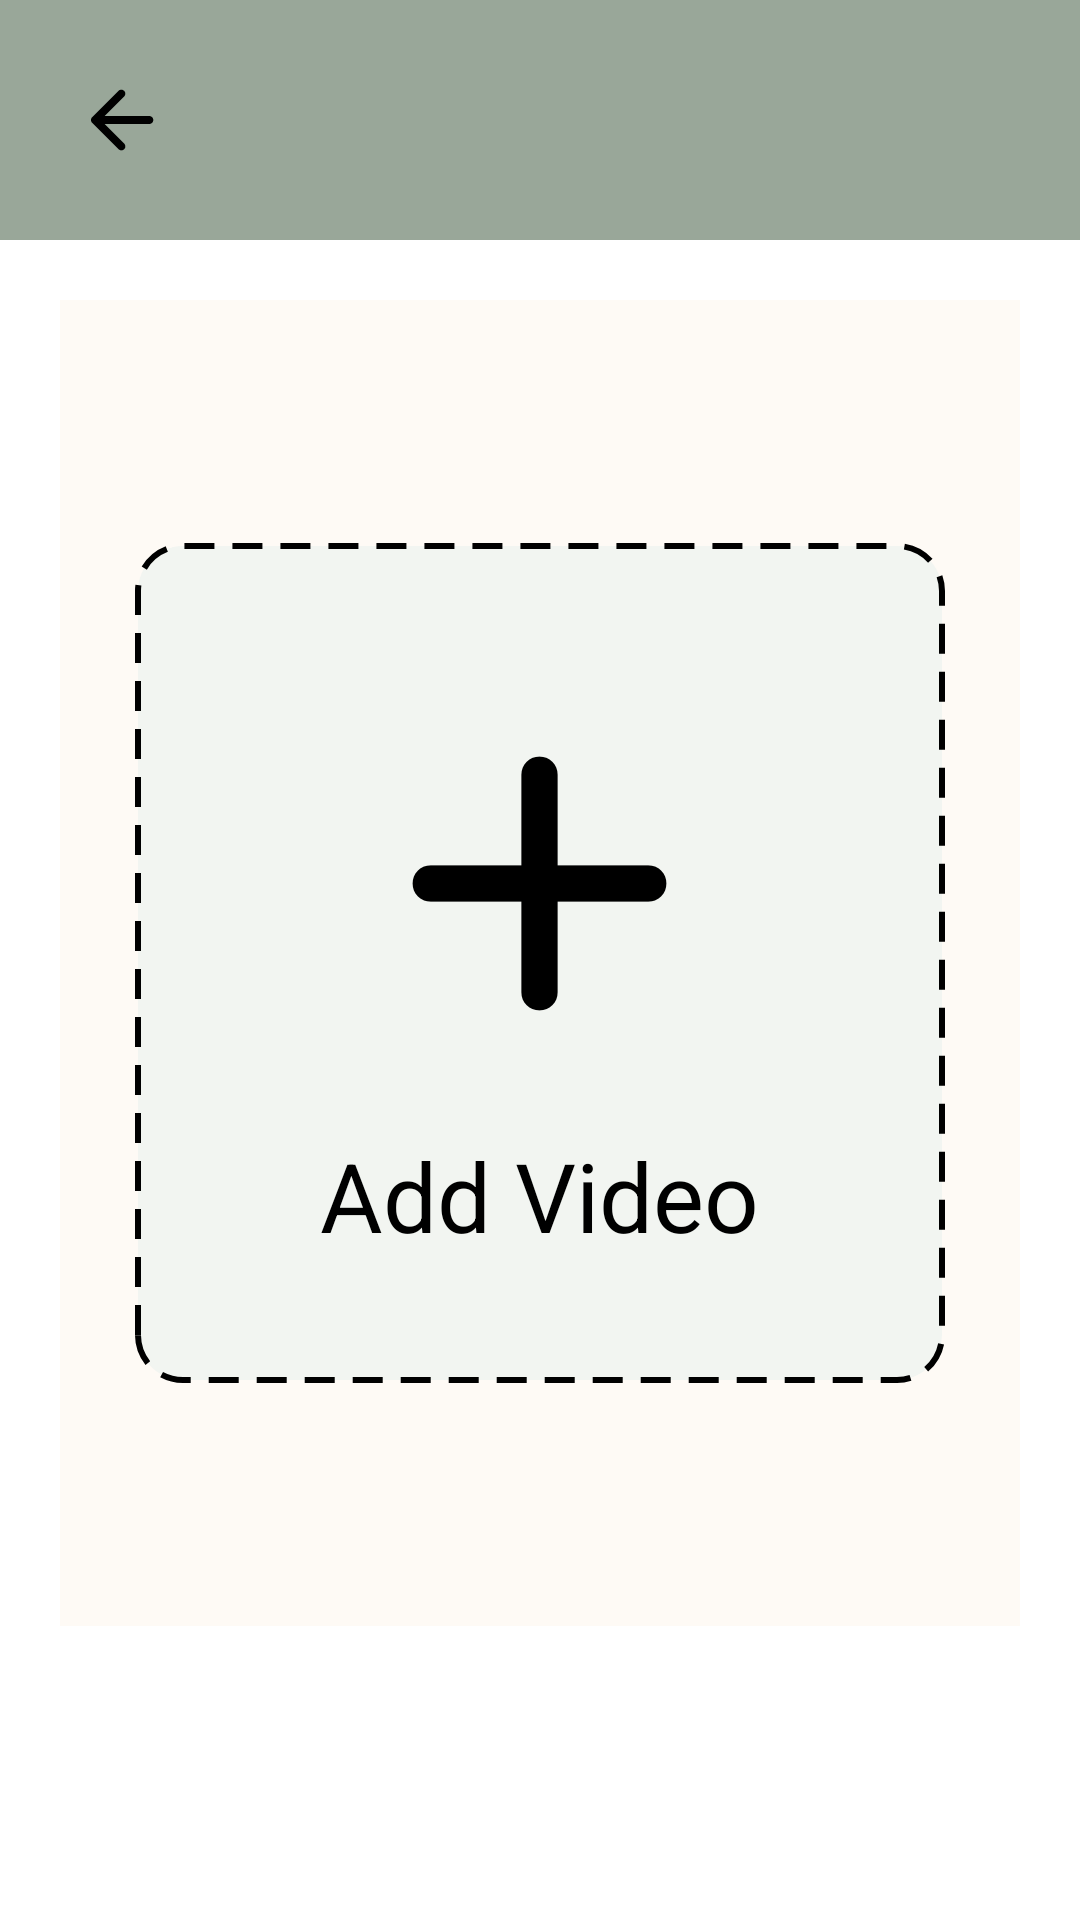

Named icons in this screenshot (1080x1920) and their bounding boxes, (x1, y1, x2, y2):
add rounded: (412, 756, 667, 1011)
arrow back rounded: (91, 89, 154, 151)
